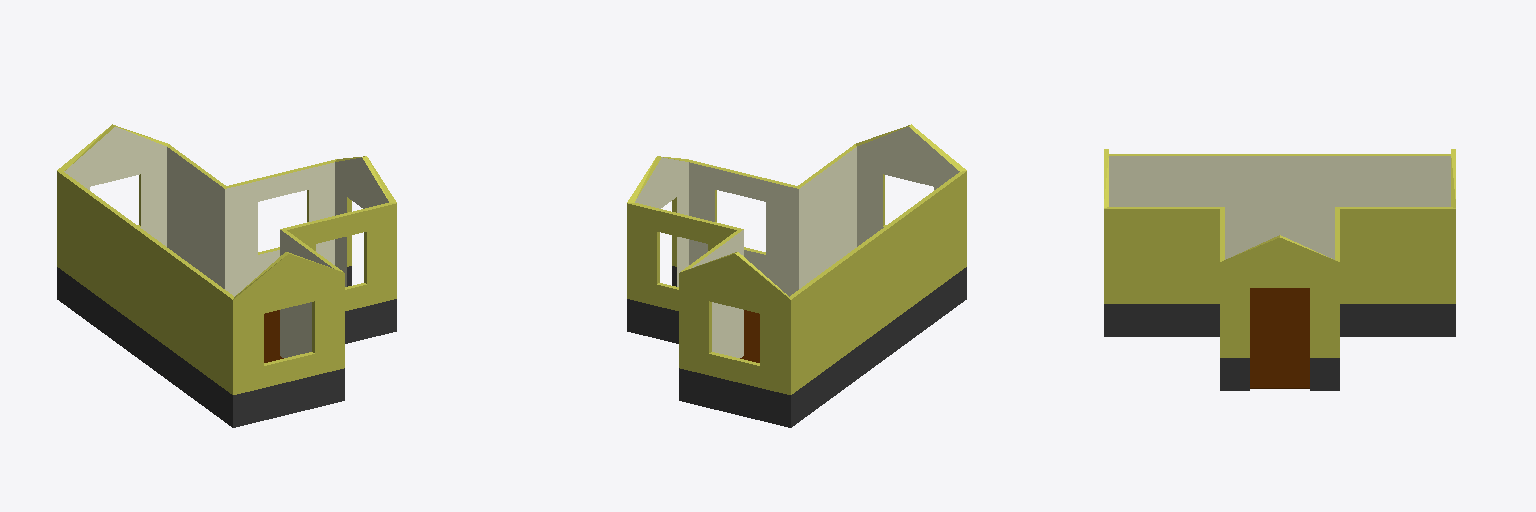
Rendered from HouseWalls.obj.
The picture shows the model from 3 angles: view 1: azimuth 30°, elevation 25°; view 2: azimuth 150°, elevation 25°; view 3: azimuth 270°, elevation 25°; orthographic projection.
Visible parts, largest first — view 1: HouseWalls; view 2: HouseWalls; view 3: HouseWalls.
Boxes of the visible parts, <box> form: HouseWalls: <box>57,124,396,427</box>; HouseWalls: <box>627,124,966,427</box>; HouseWalls: <box>1104,149,1455,390</box>.
Bounding box in the file's own units: 154 × 106 × 211.